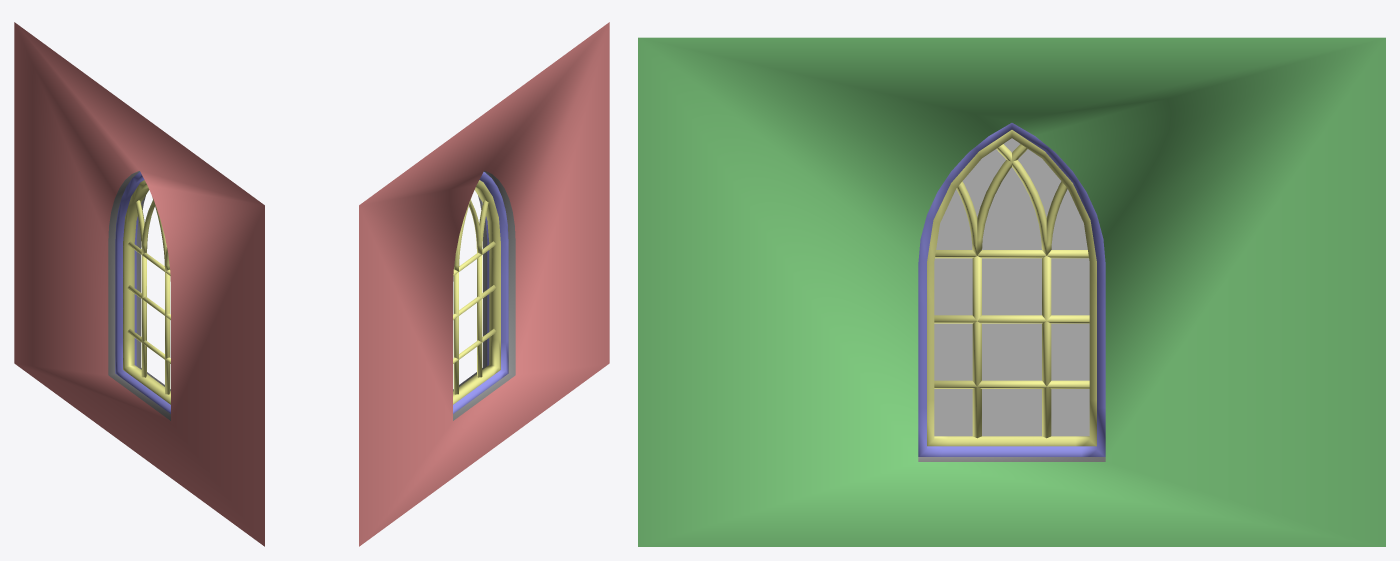
The model's file is SM_window_13.gltf.
3 views of the same model, side by side, from view 1: azimuth 30°, elevation 25°; view 2: azimuth 150°, elevation 25°; view 3: azimuth 270°, elevation 25° (orthographic). The views are drawn at different scales.
Parts seen in each view (by area): view 1: SM_window_13; view 2: SM_window_13; view 3: SM_window_13.
Part boxes in pixels (x1,y1,x2,y2): SM_window_13: (14,22,264,546); SM_window_13: (359,22,609,546); SM_window_13: (638,37,1385,546).
Size of the model in its own units: 0.3 by 3.01 by 4.
